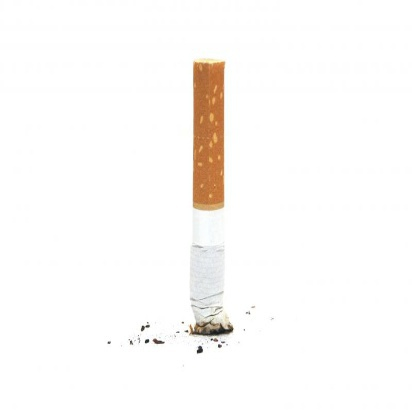cigarette: (174, 55, 241, 350)
